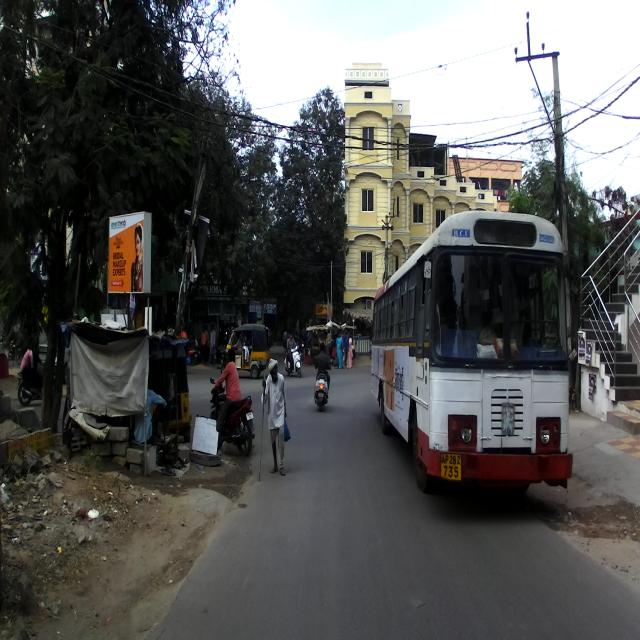bus ahead at: (368, 210, 574, 486)
motorcycle ahead at: (210, 381, 256, 457)
person ahead at: (263, 358, 292, 478)
